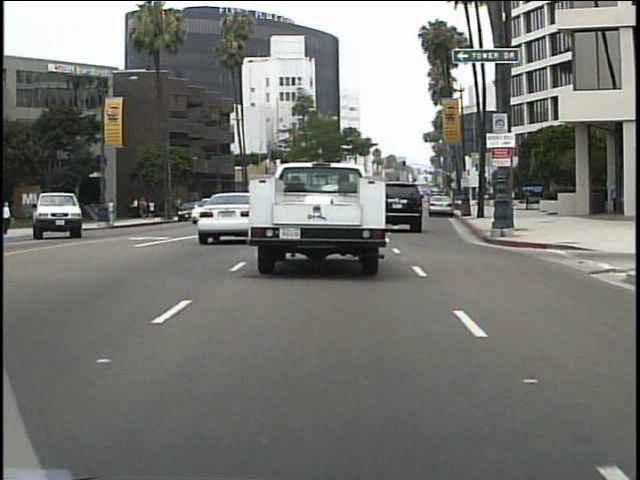person: (59, 193, 75, 230), (52, 200, 68, 236), (4, 196, 18, 237), (522, 184, 533, 214), (110, 197, 117, 225)
